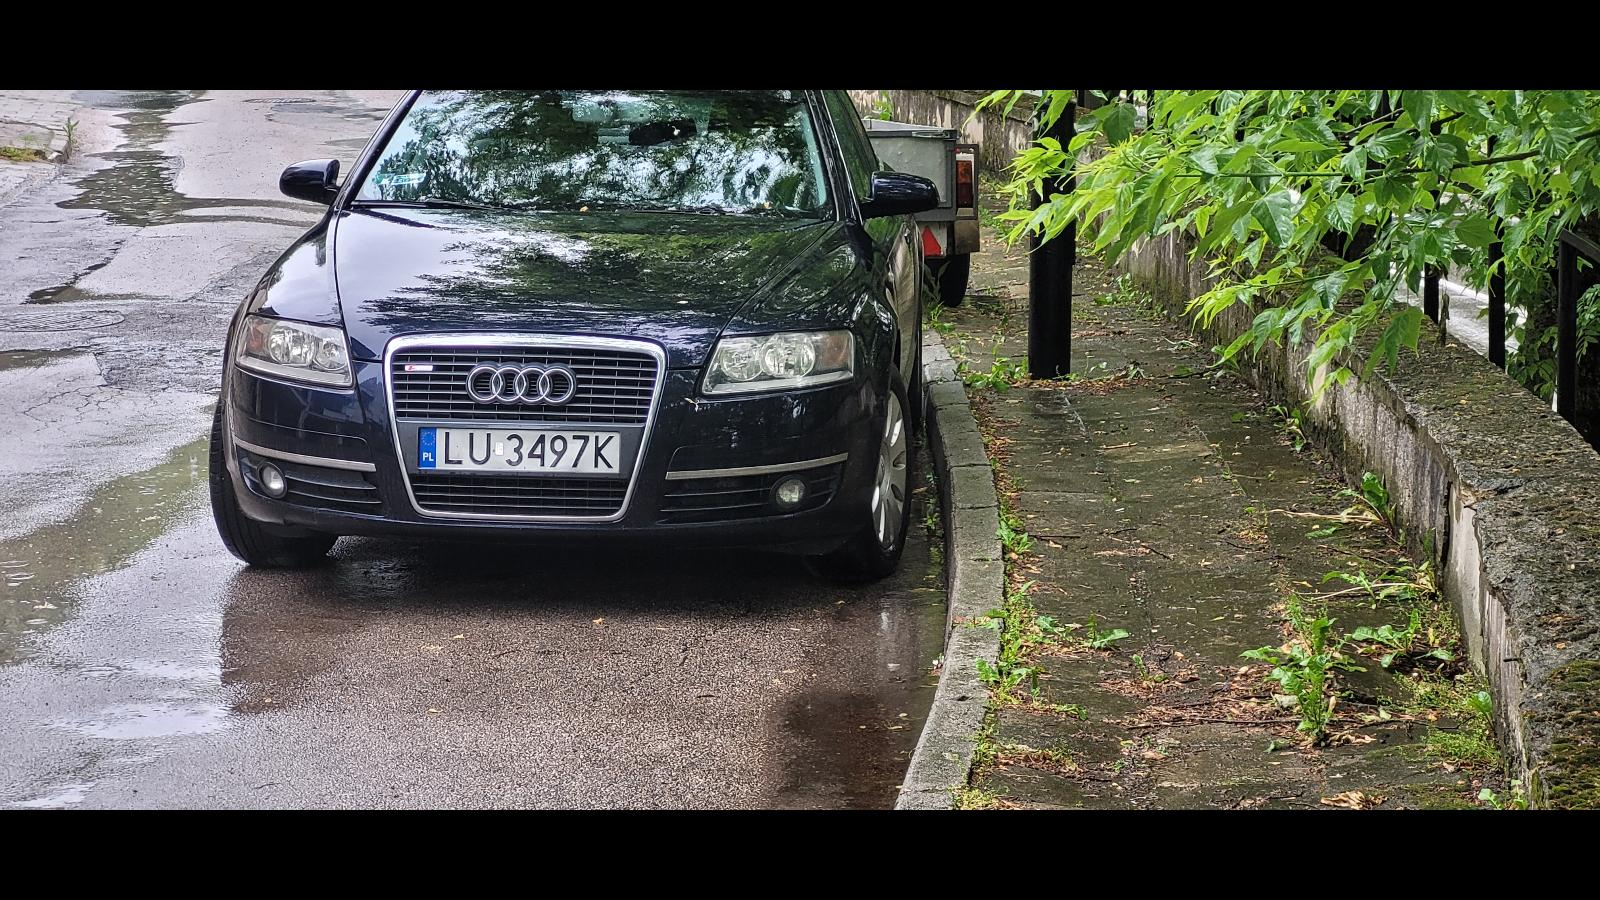plates: (416, 427, 624, 475)
